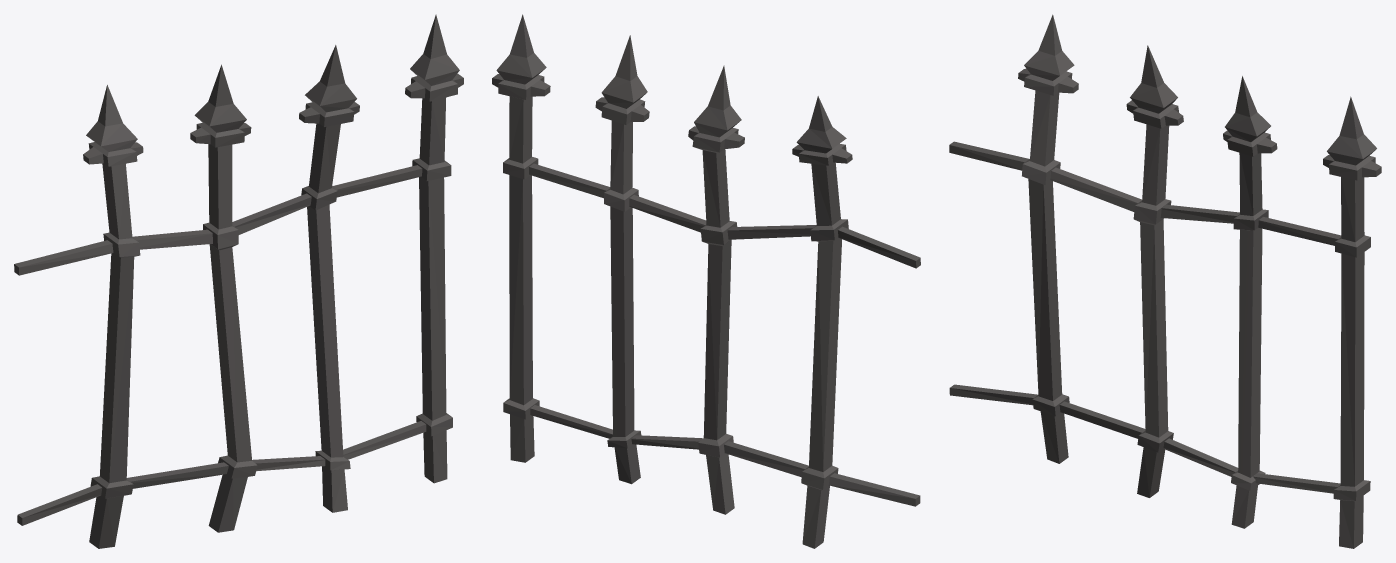
The model's file is SM_Prop_Fence_02.gltf.
3 renders of one model, left to right at view 1: azimuth 30°, elevation 25°; view 2: azimuth 150°, elevation 25°; view 3: azimuth 330°, elevation 25°, orthographic. The views are drawn at different scales.
Visible parts, largest first — view 1: SM_Prop_Fence_02; view 2: SM_Prop_Fence_02; view 3: SM_Prop_Fence_02.
Part boxes in pixels (<box>): SM_Prop_Fence_02: <box>14,14,463,548</box>; SM_Prop_Fence_02: <box>492,14,920,548</box>; SM_Prop_Fence_02: <box>949,14,1381,548</box>.
Size of the model in its own units: 1.54 by 1.54 by 0.1987.
Materials: 1 (1 with a texture image).
